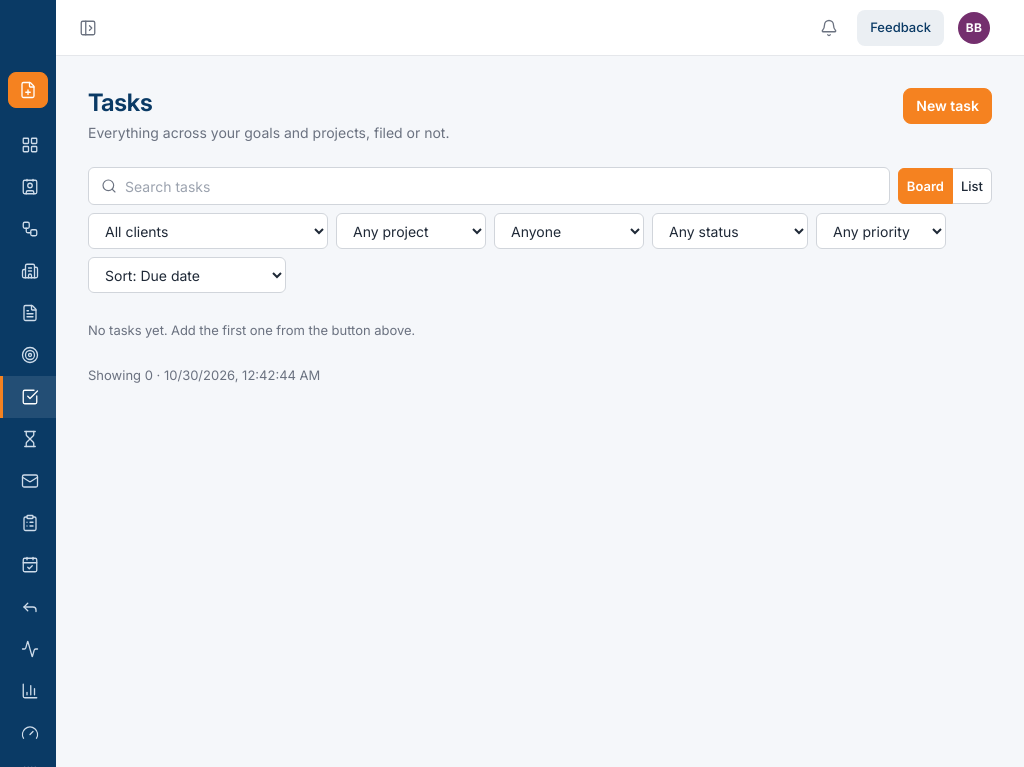
Test: Profile in the menu › offers Profile to FF, and it opens the page
The image size is (1024, 767).
Click the button with aria-label "Your account".
click(974, 28)  # box [956,10,992,46]
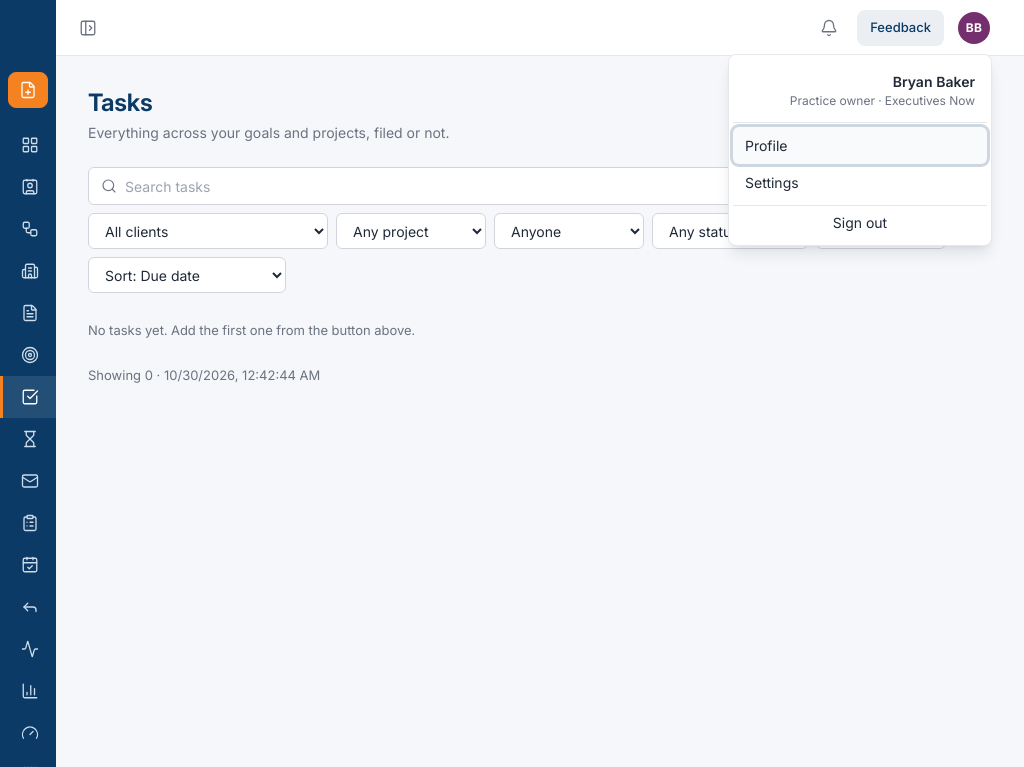
Click the menu item "Profile".
click(860, 145)  # box [733,126,987,164]
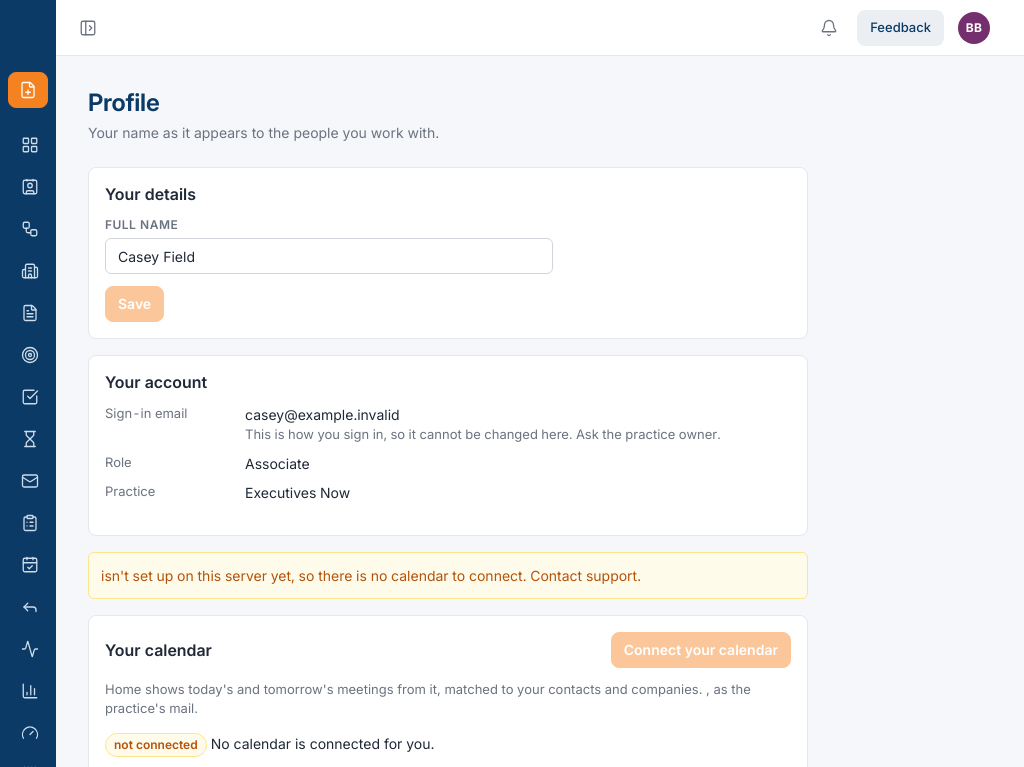
Result: the field named "Full name" holds "Casey Field" at [105,238,553,274]
Result: the menu is gone
